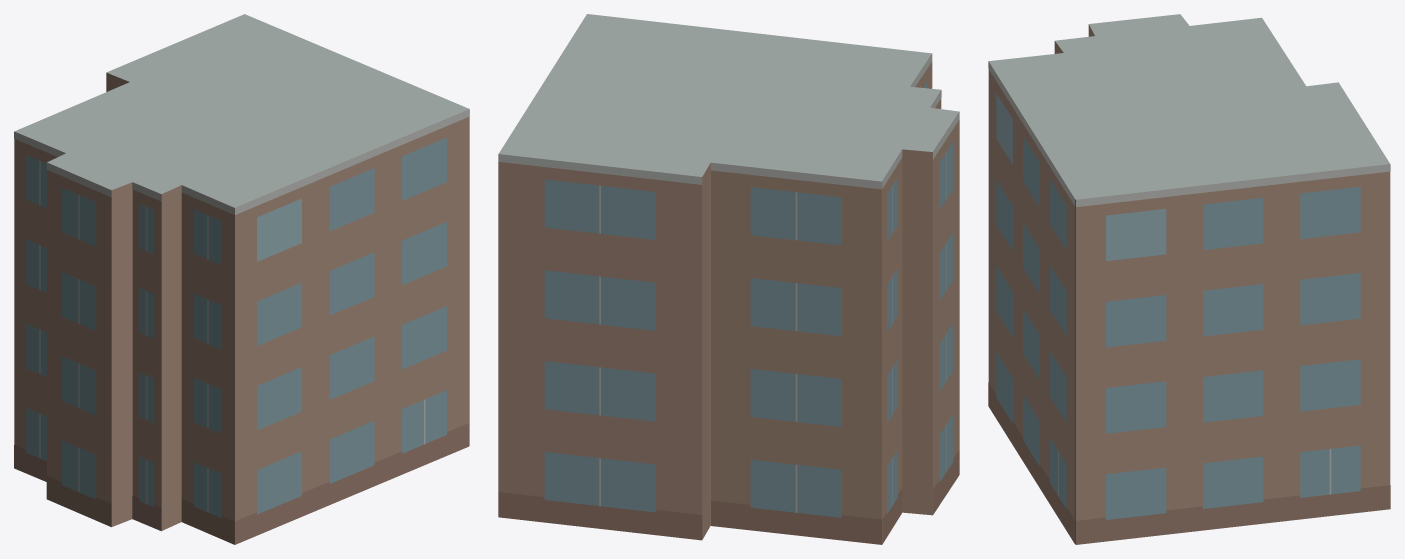
File: survey-upis-32773418.glb
3 views of the same model, side by side, from view 1: azimuth 30°, elevation 25°; view 2: azimuth 150°, elevation 25°; view 3: azimuth 270°, elevation 25° (orthographic). The views are drawn at different scales.
Visible parts, largest first — view 1: survey-upis-32773418.tmp; view 2: survey-upis-32773418.tmp; view 3: survey-upis-32773418.tmp.
Part boxes in pixels (x1,y1,x2,y2): survey-upis-32773418.tmp: [14, 14, 469, 544]; survey-upis-32773418.tmp: [498, 14, 959, 544]; survey-upis-32773418.tmp: [988, 14, 1390, 544].
Size of the model in its own units: 13.13 by 11.36 by 12.
